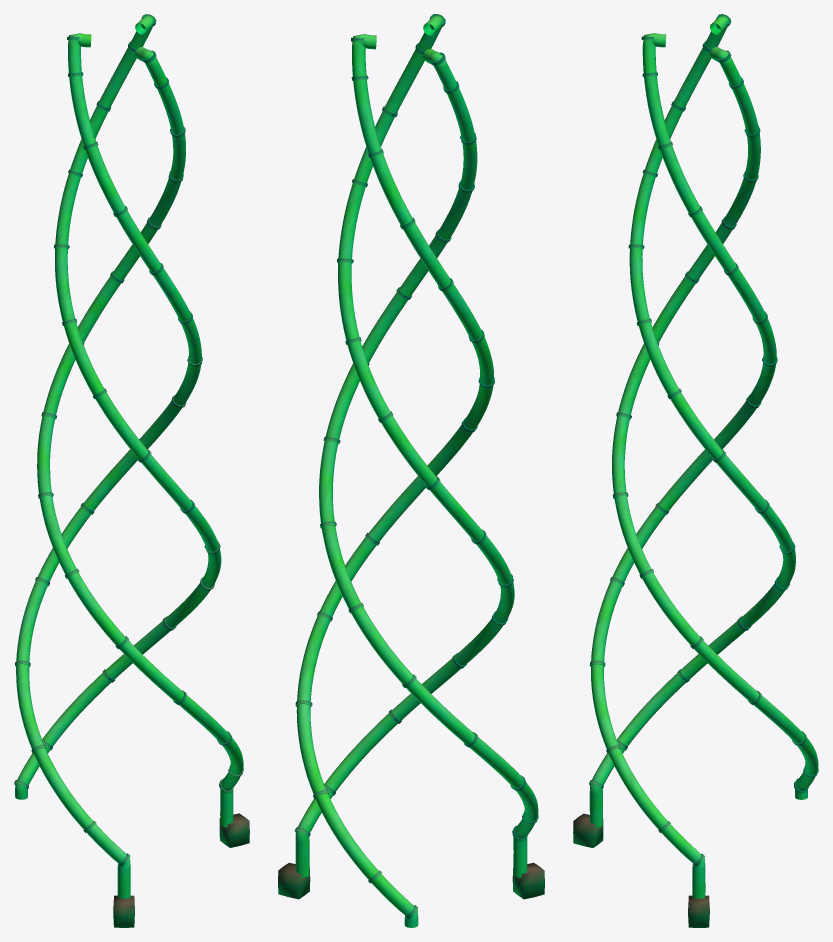
The model's file is coilspire_flues.glb.
The picture shows the model from 3 angles, left to right: view 1: azimuth 30°, elevation 25°; view 2: azimuth 150°, elevation 25°; view 3: azimuth 270°, elevation 25°; orthographic projection. The views are drawn at different scales.
Parts seen in each view (by area): view 1: coilspire_flues; view 2: coilspire_flues; view 3: coilspire_flues.
Part boxes in pixels (x1,y1,x2,y2): coilspire_flues: [14, 14, 249, 927]; coilspire_flues: [278, 14, 544, 927]; coilspire_flues: [573, 14, 818, 927].
Size of what is drawn, in the model's own units: 11.64 by 42.25 by 11.25.
